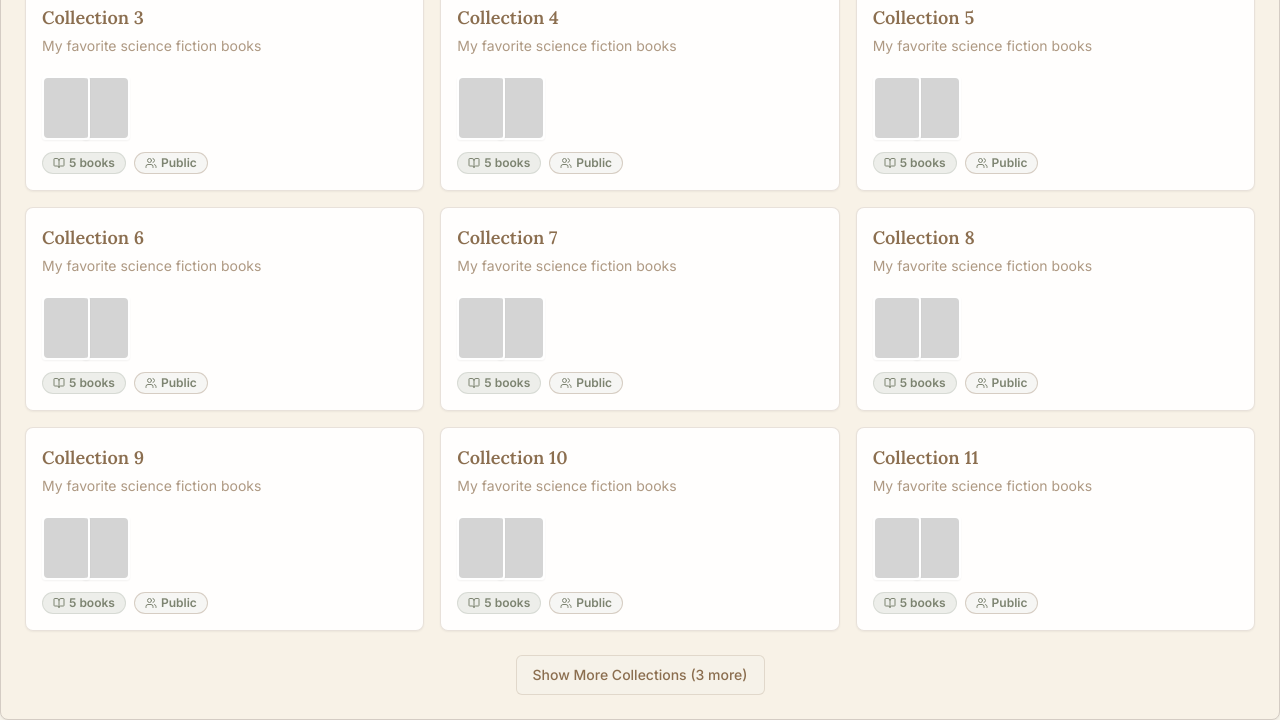
Test: ProfileCollectionsSection › Pagination › should expand to show all collections when "Show More" is clicked
This screenshot has width=1280, height=720.
(page scrolled)
Click the button "Show More Collections (3 more)" at (640, 675), box 516,655 -> 764,695
(page scrolled)
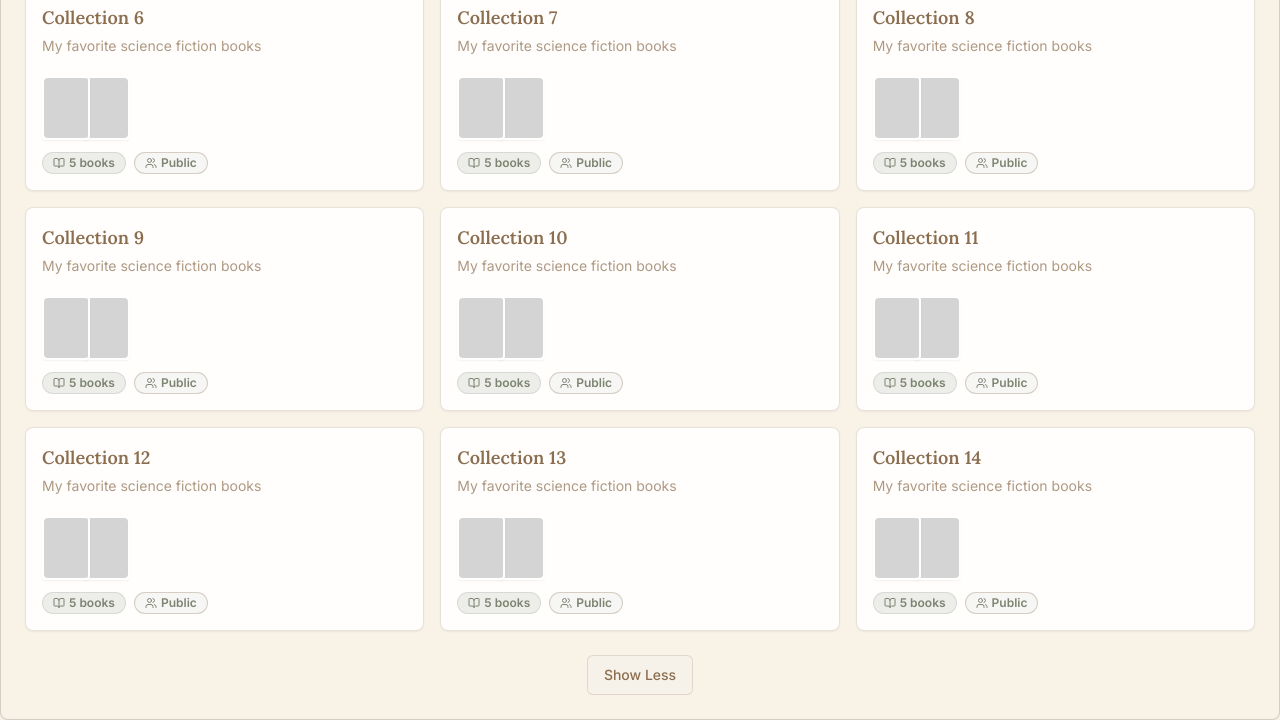
Result: the button "Show Less" is shown at 587,655 -> 693,695
Result: the button "Show More Collections (3 more)" is gone
